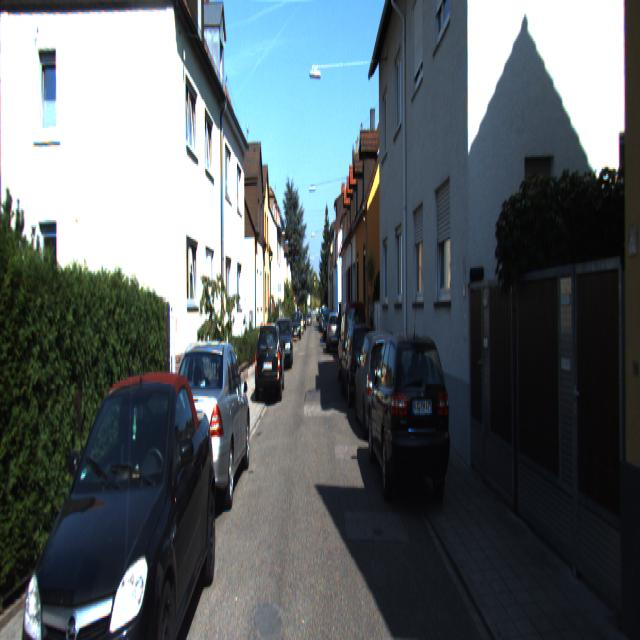Car: (17, 354, 219, 638), (367, 319, 454, 518), (165, 327, 252, 526), (352, 321, 404, 444), (341, 318, 379, 416), (254, 318, 283, 402), (272, 315, 293, 372), (327, 313, 342, 355)
DontCare: (287, 290, 326, 347)
Van: (338, 295, 368, 391)
